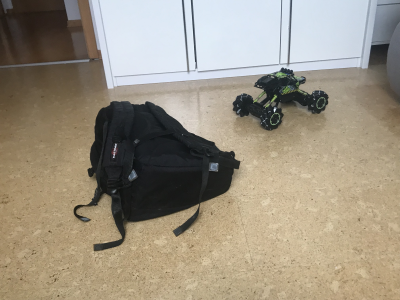remote control car: (229, 66, 331, 131)
